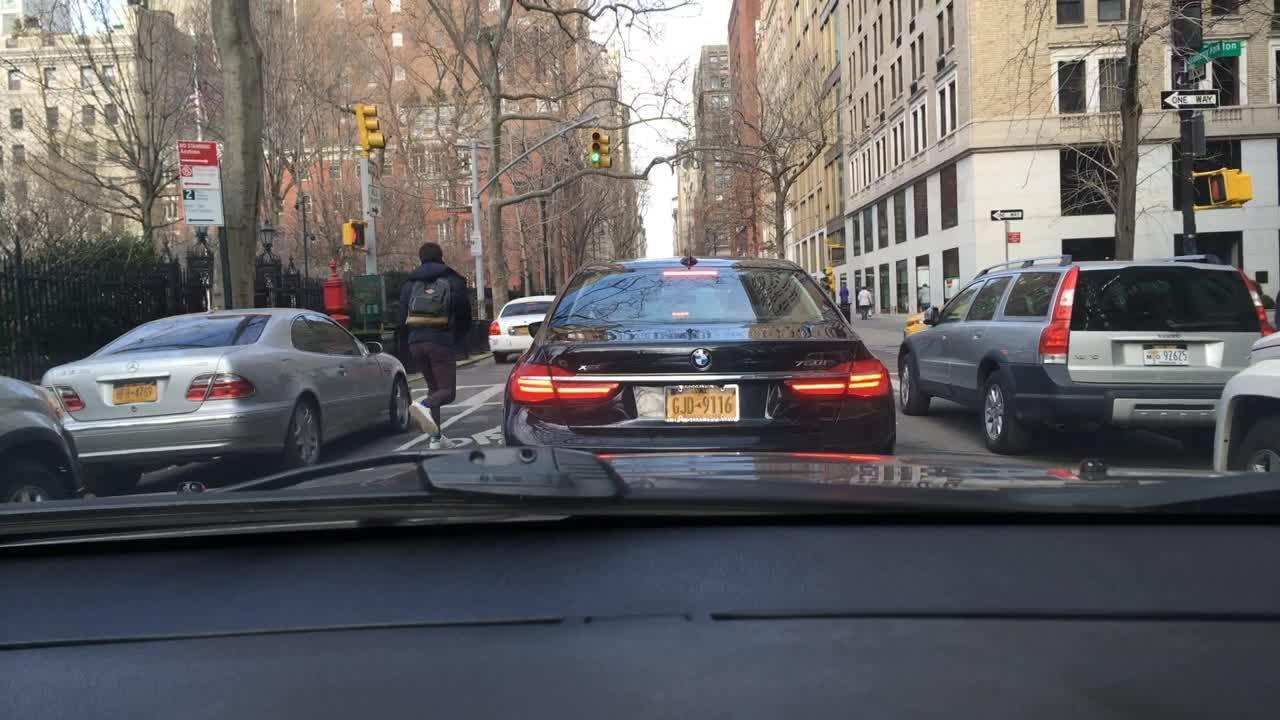bmw: (679, 333, 734, 379)
